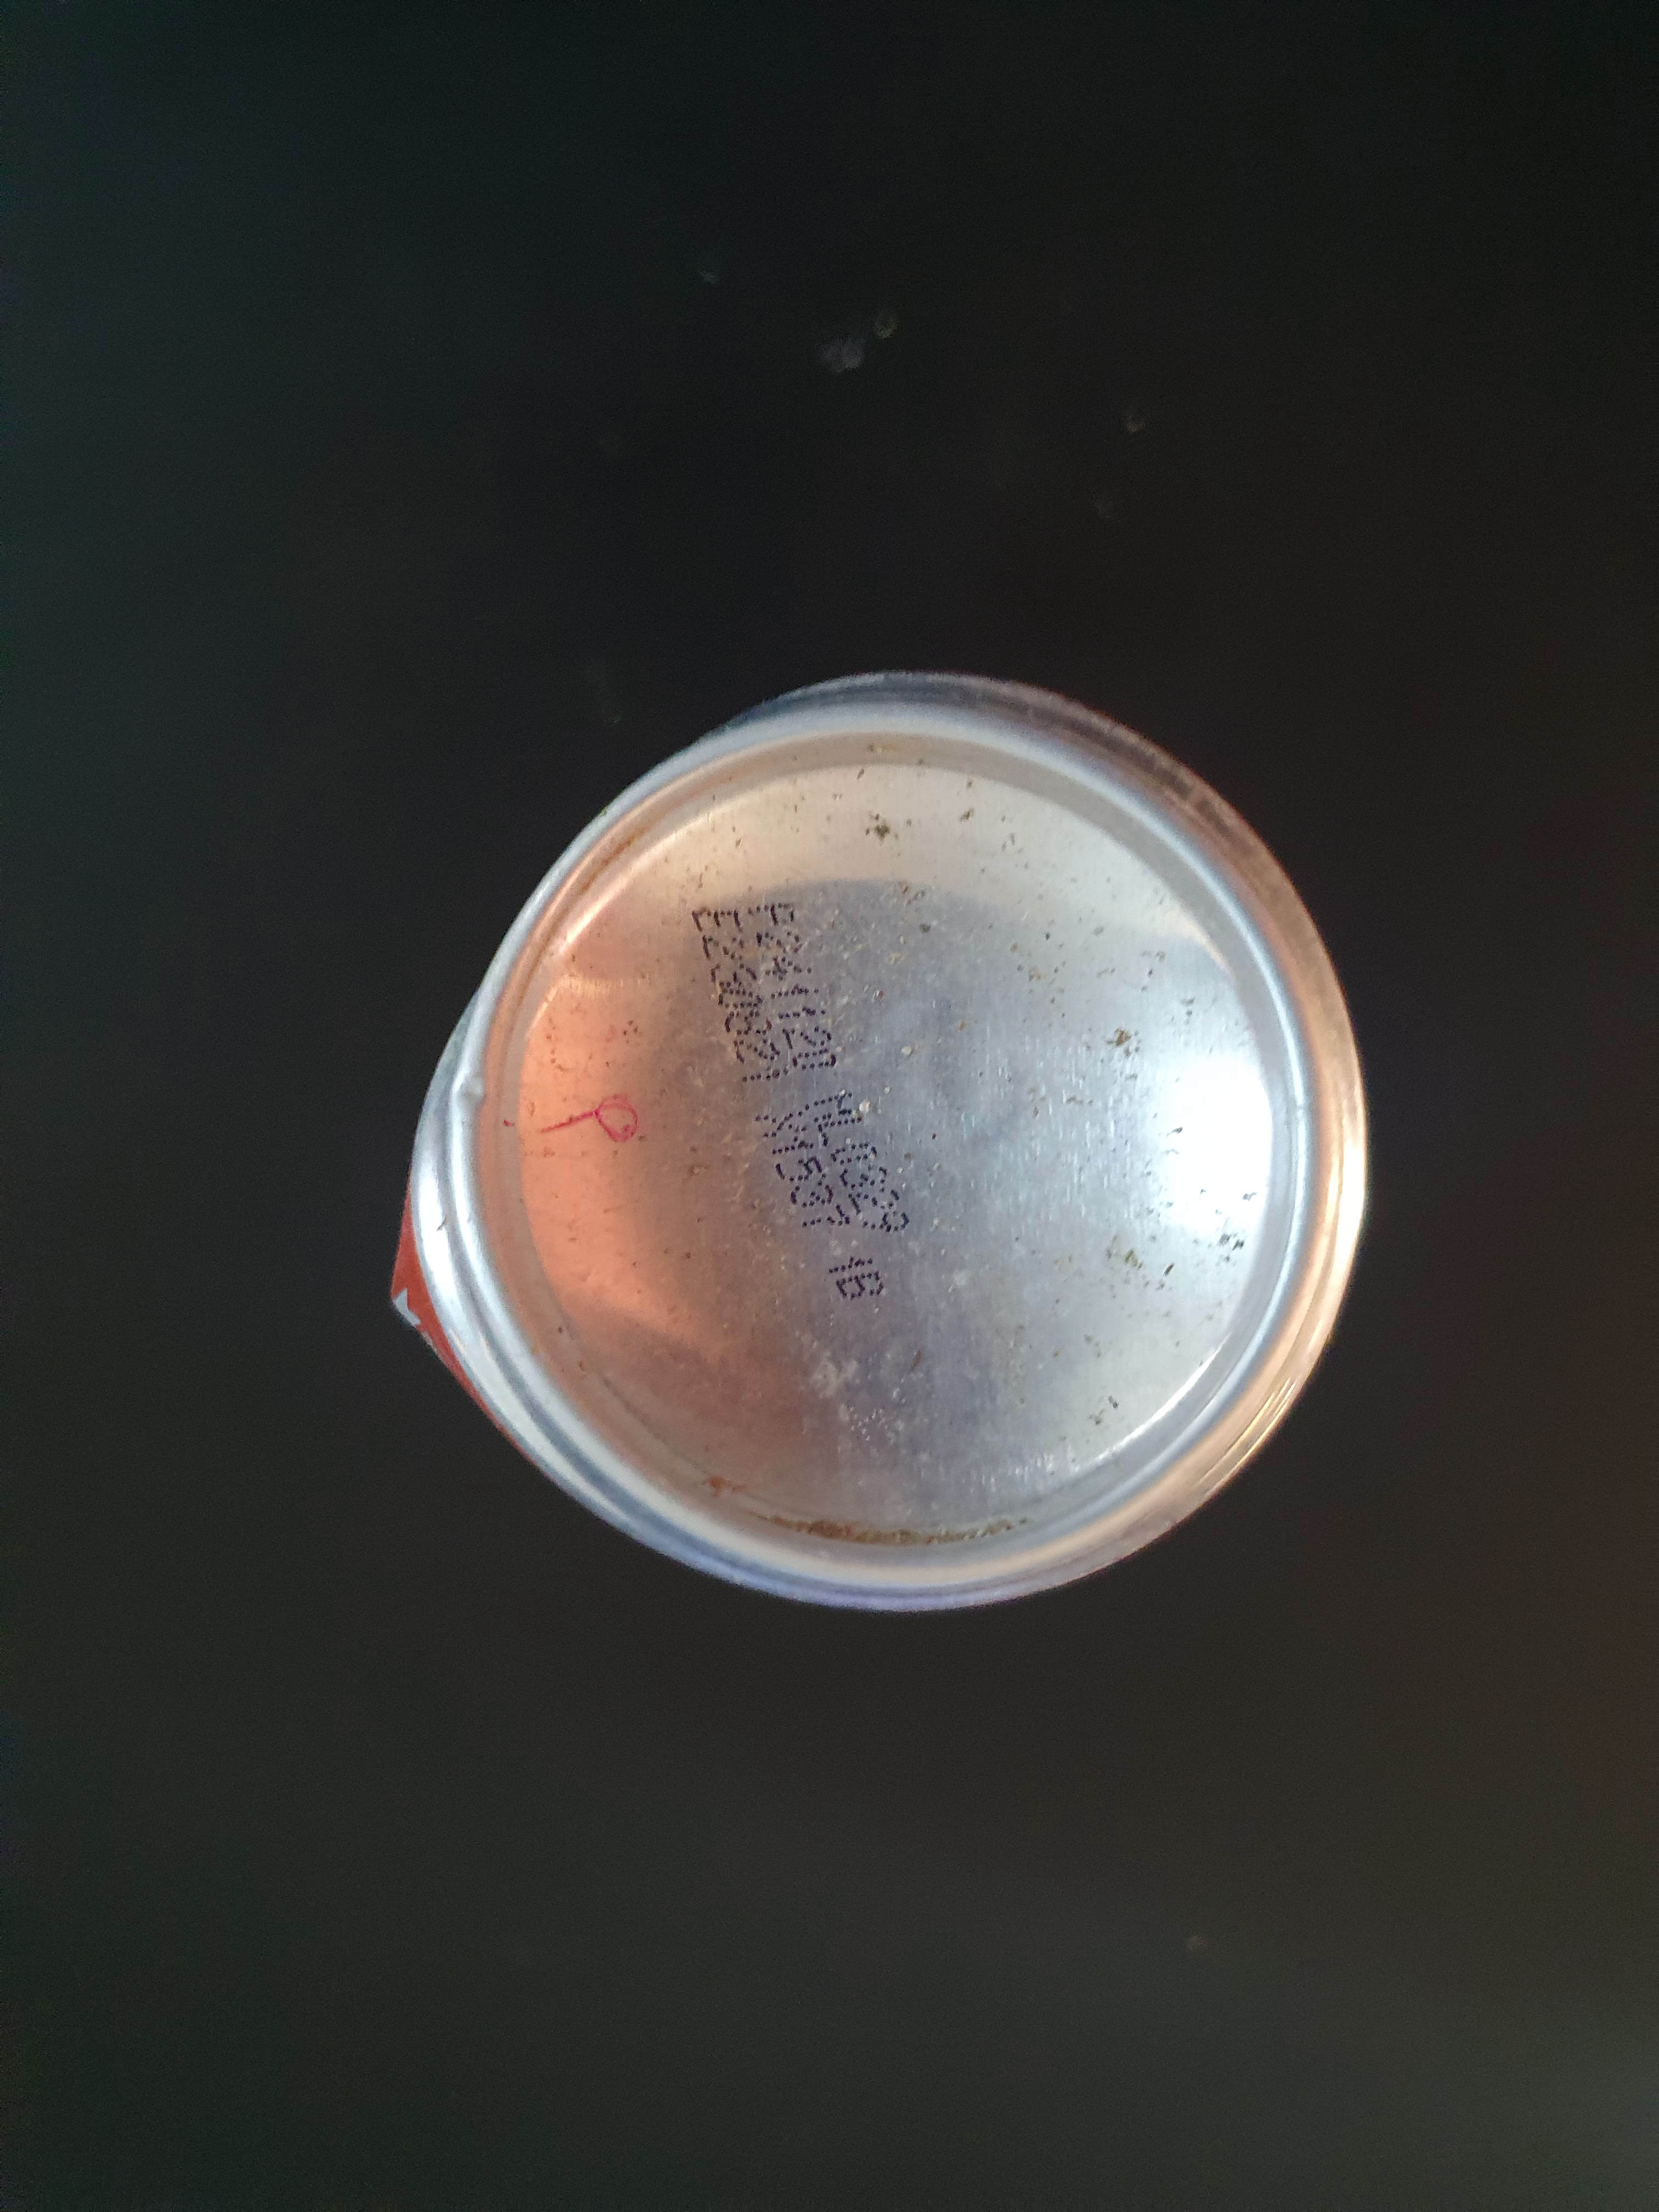metal: (324, 608, 1436, 1662)
